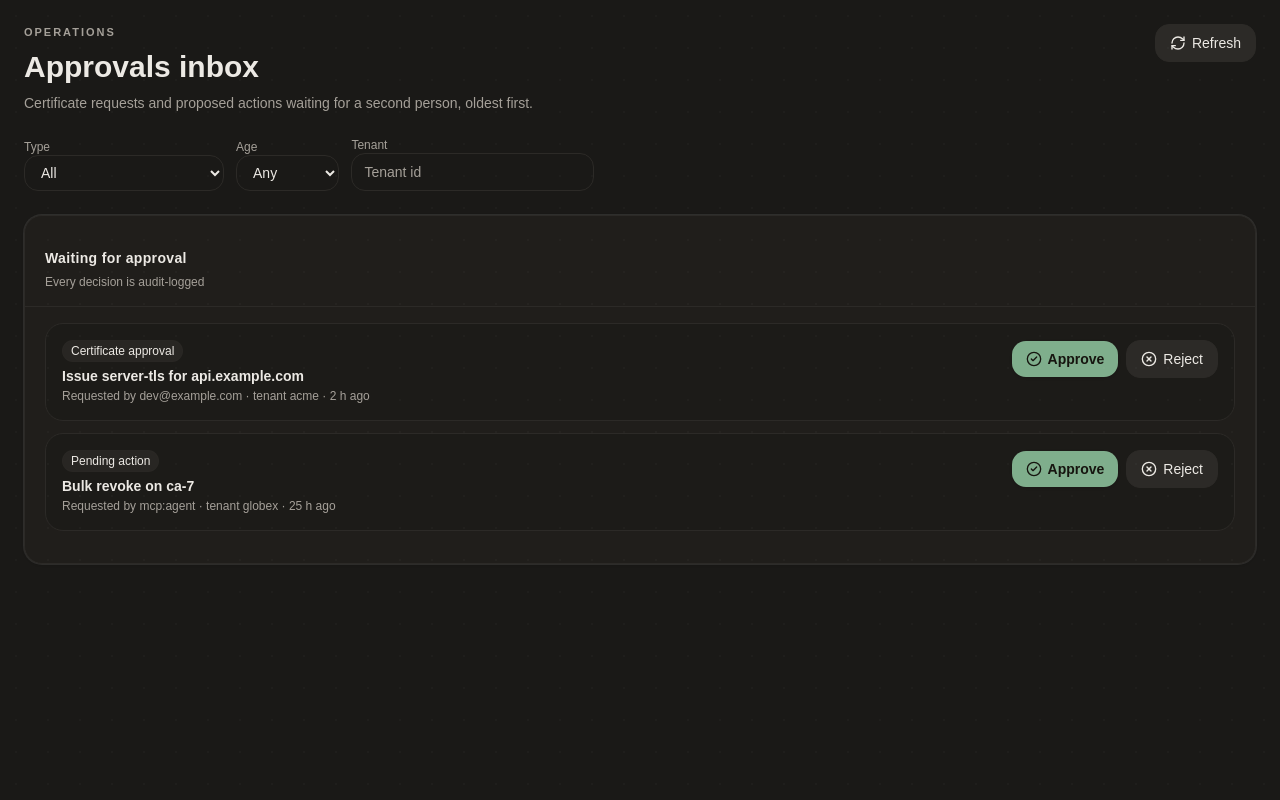
Test: Approvals inbox › shows n-of-m progress on a 202 quorum response
Expected: the text "Bulk revoke on ca-7" is shown, [62,478,194,494]
Step 1. Click the button "Approve" in the row of "Bulk revoke on ca-7" → [1065, 468], box [1012,450,1118,486]
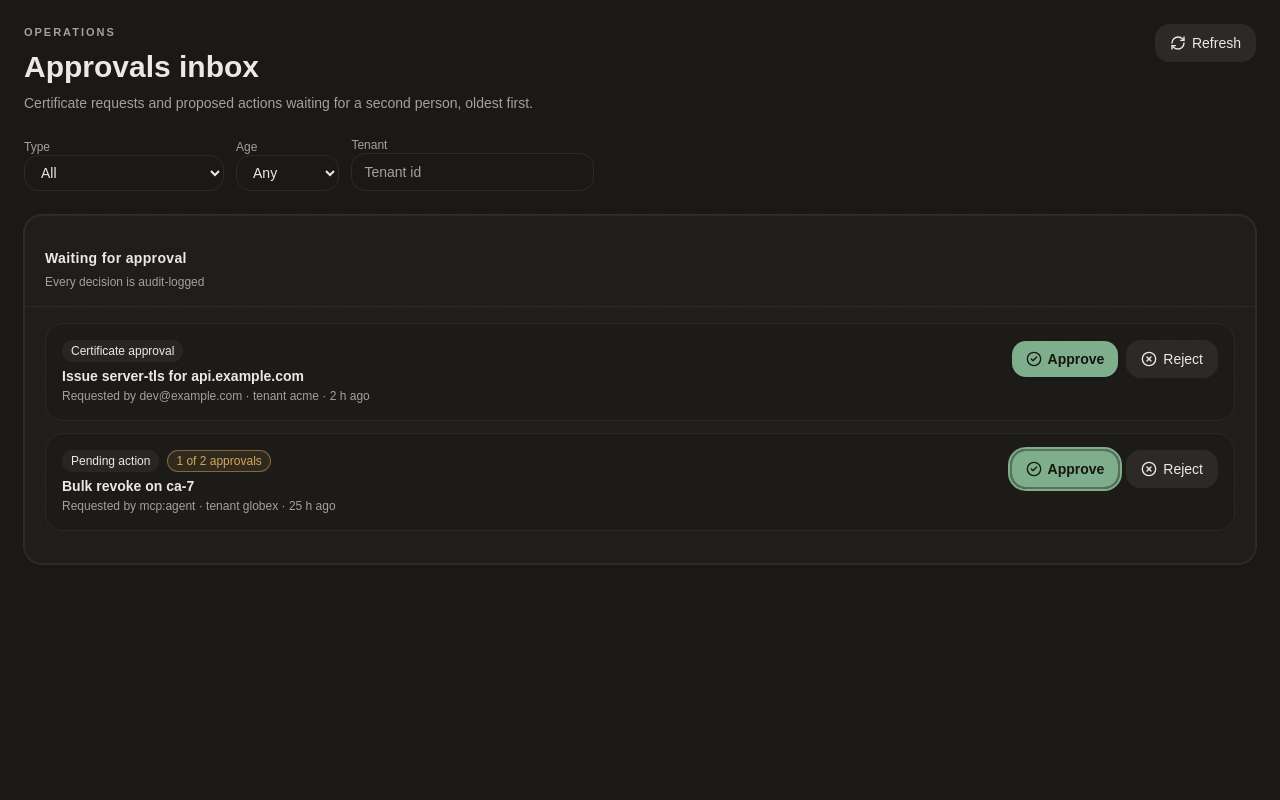
Expected: the text "1 of 2 approvals" is shown, [167,450,271,472]
